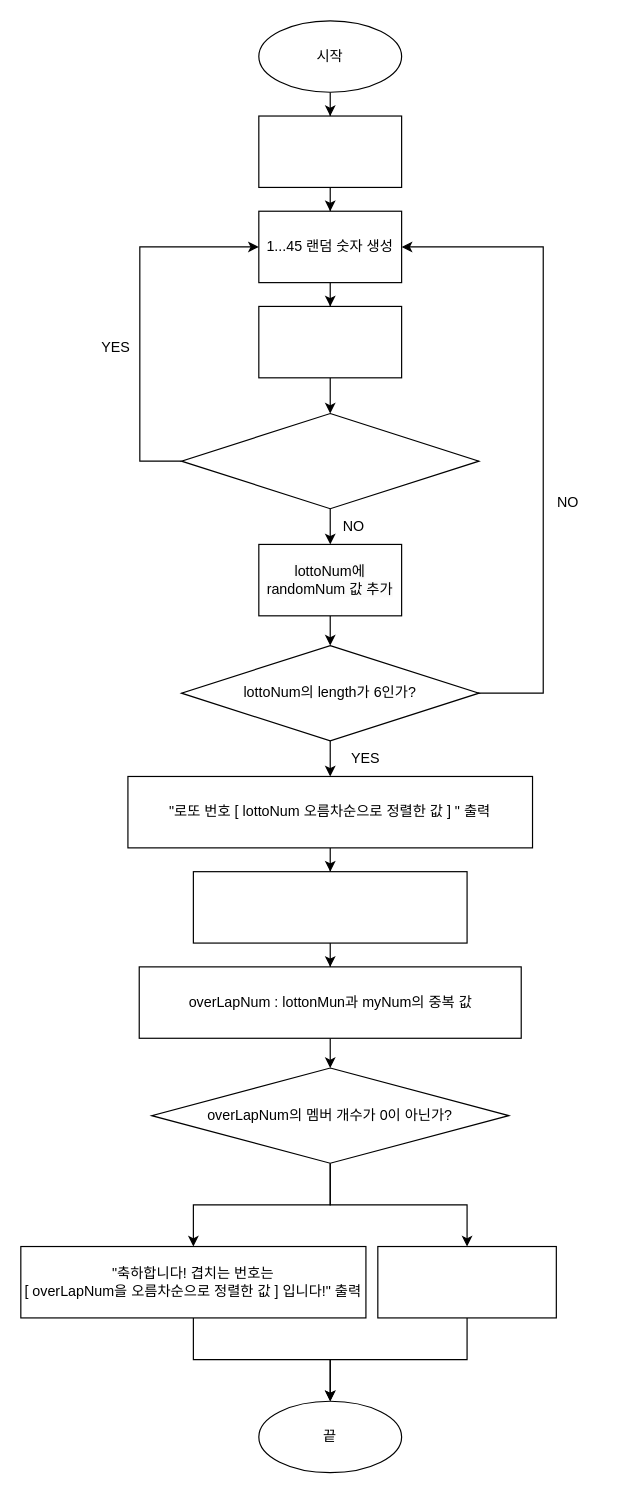
Some shapes in this 625 by 1493 pixel diagram are drawn without their labels. The shapes that lost their labels are listed below. From the top down, each one's centre as x and y in pixels, then its label:
(330,151): lottoNum : [] randomNum : 0
(330,341): radomNum에 할당
(329,460): lottoNum에 randomNum과 동일한 값이 있는가?
(329,906): myLottoNumbers : [2,3,8,21,38,44]
(466,1281): "아쉽지만 겹치는 번호가 없습니다." 출력
